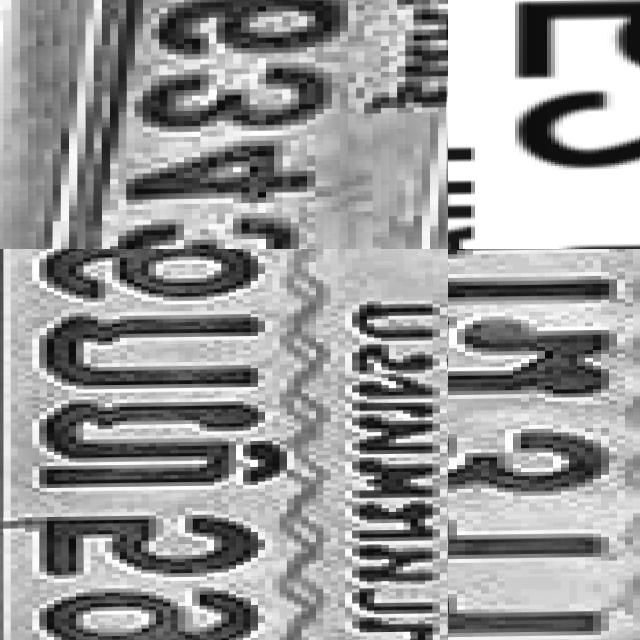license-plate: (0, 249, 448, 640), (40, 0, 448, 249), (448, 249, 640, 640), (448, 0, 640, 249)
